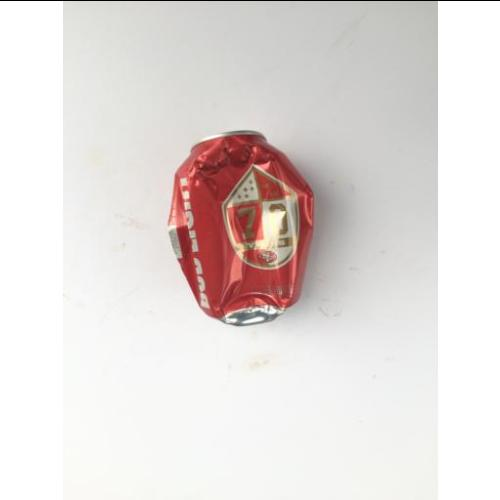metal: (173, 134, 312, 329)
